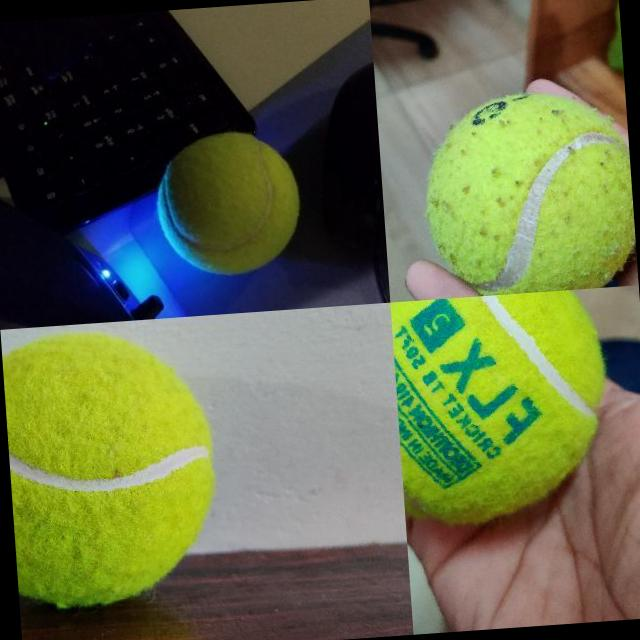Tennis Ball: (1, 320, 224, 612), (391, 288, 614, 526), (417, 84, 638, 298), (152, 125, 304, 279)
